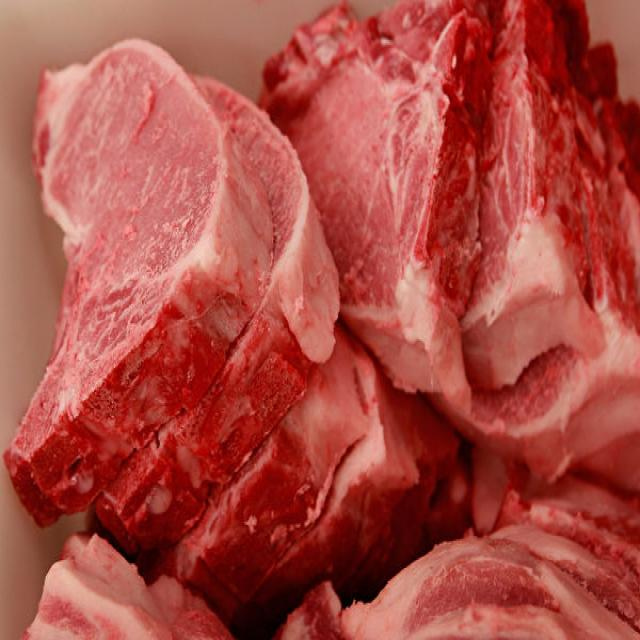Pork: (8, 36, 263, 532), (272, 22, 478, 406)
